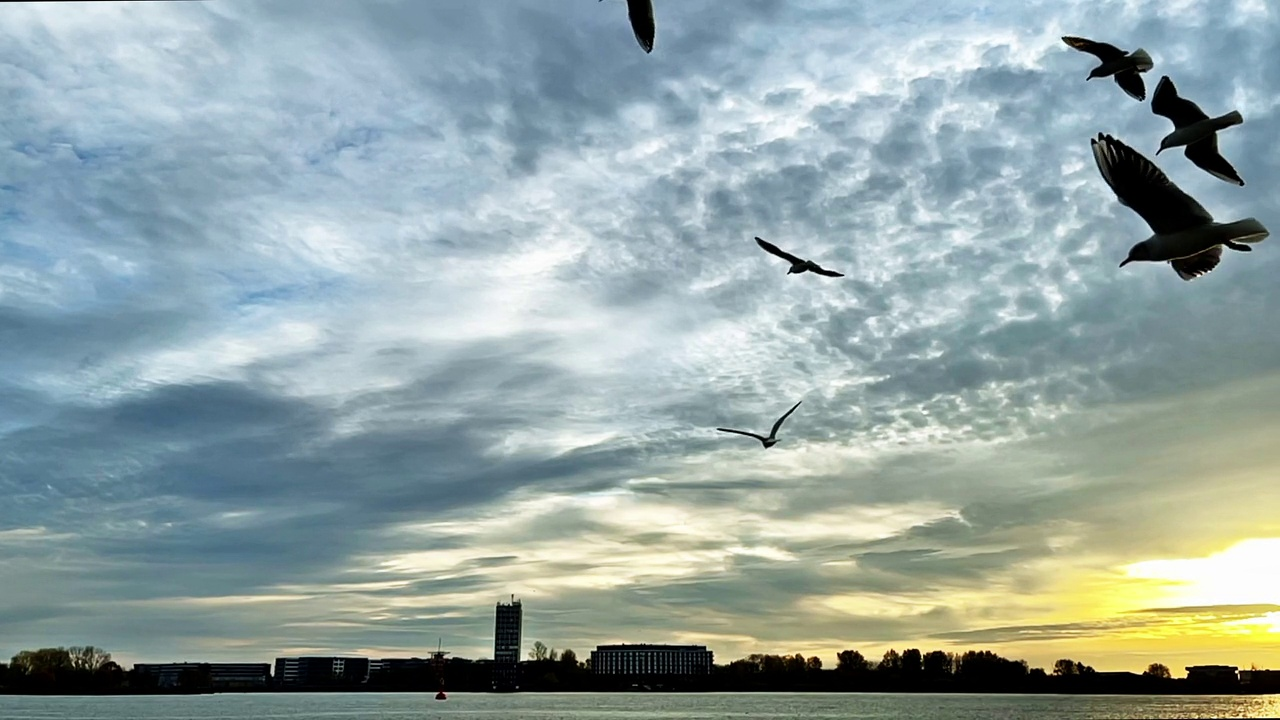bird: (1090, 127, 1270, 284), (1148, 75, 1244, 187), (1061, 34, 1153, 100), (715, 402, 799, 448), (755, 235, 843, 277)
